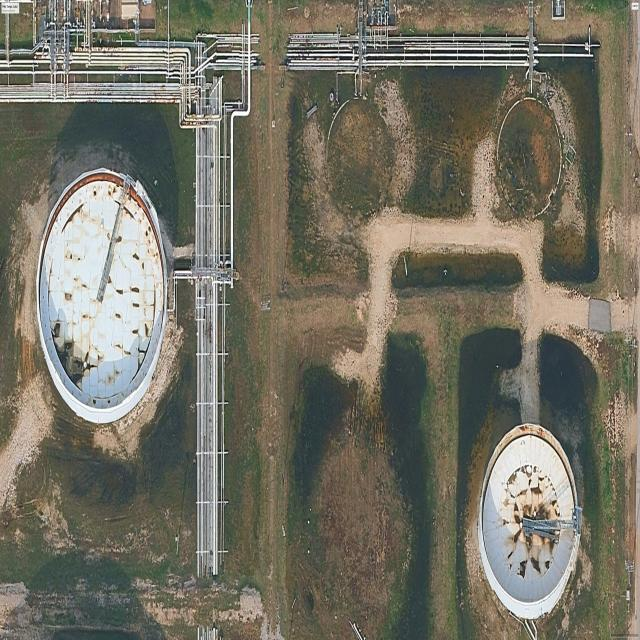Oil Rafinery: (36, 172, 166, 422), (478, 423, 582, 619)
